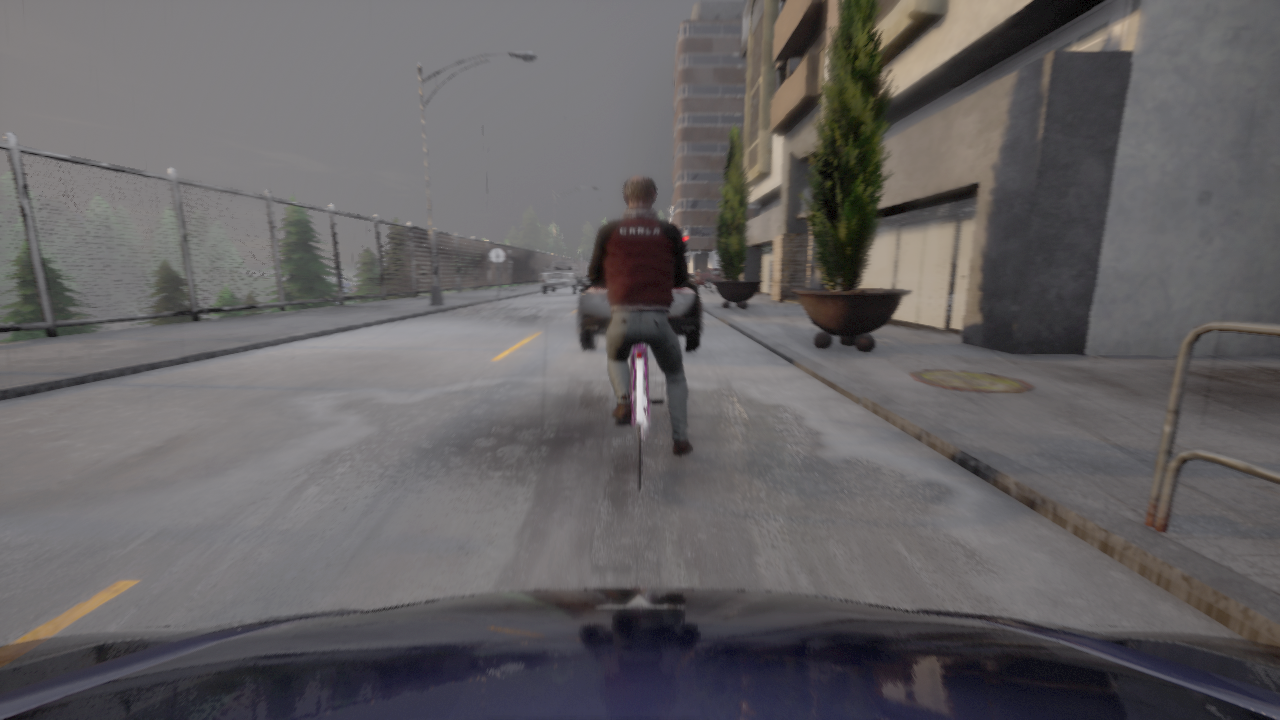cyclist: (0, 588, 1279, 719), (576, 275, 703, 351), (616, 344, 663, 490), (540, 260, 583, 294), (688, 268, 721, 287)
pedestrian: (719, 268, 725, 279)
